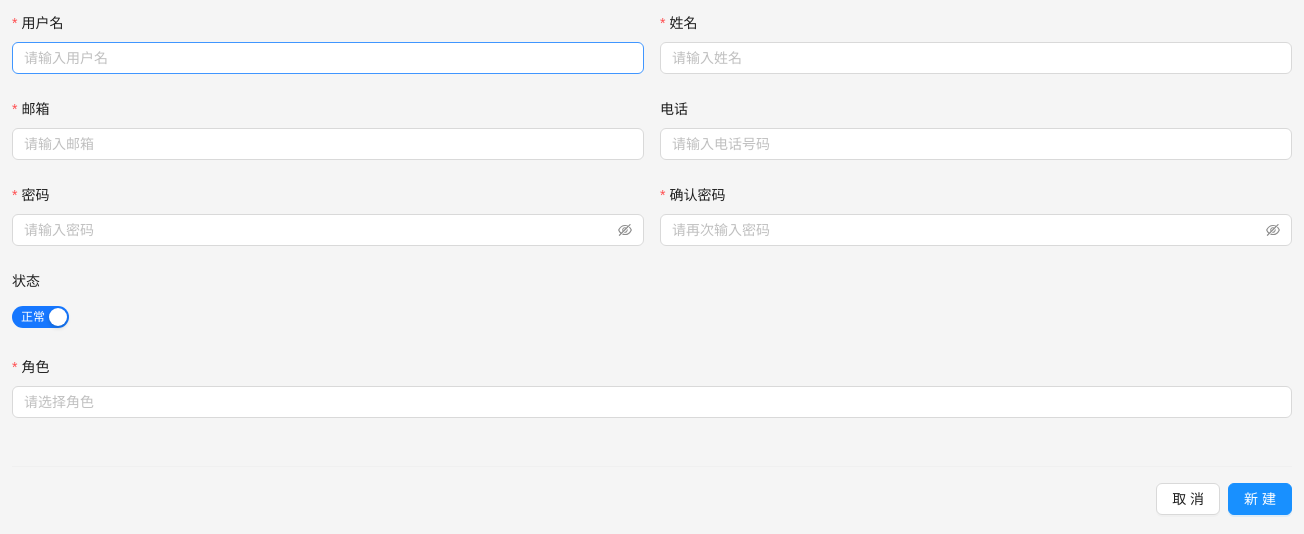
Scenario: UserForm › validates required fields on submit
Click the button with test id "submit-btn" at (1260, 499), box x1=1228 y1=483 x2=1292 y2=515
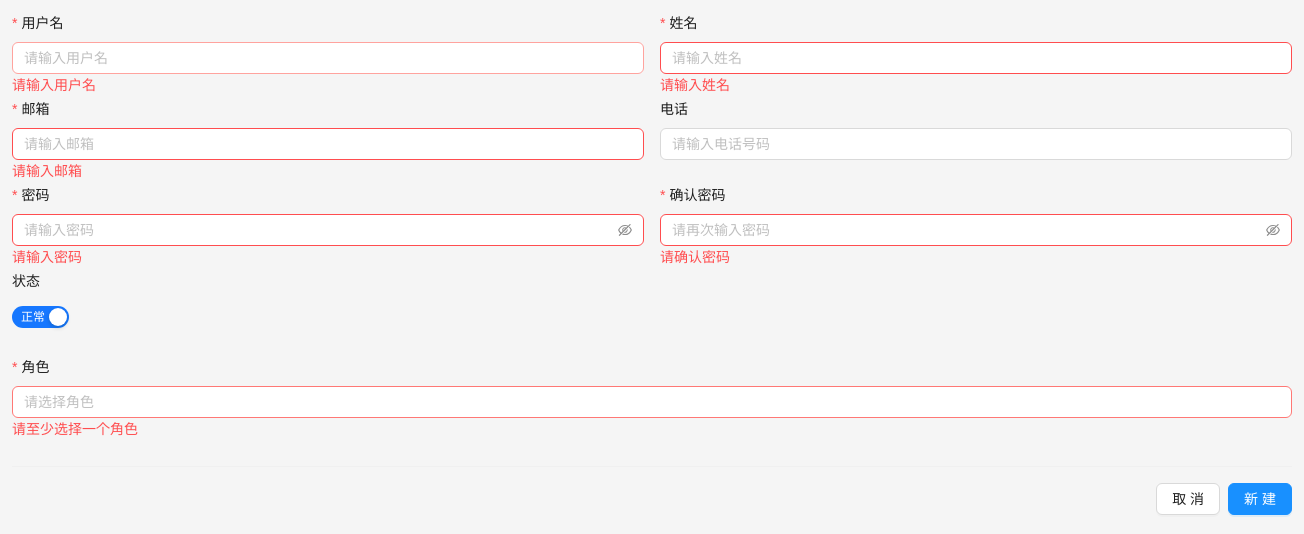
Check: the message "请输入用户名" is shown, box x1=12 y1=74 x2=96 y2=96
